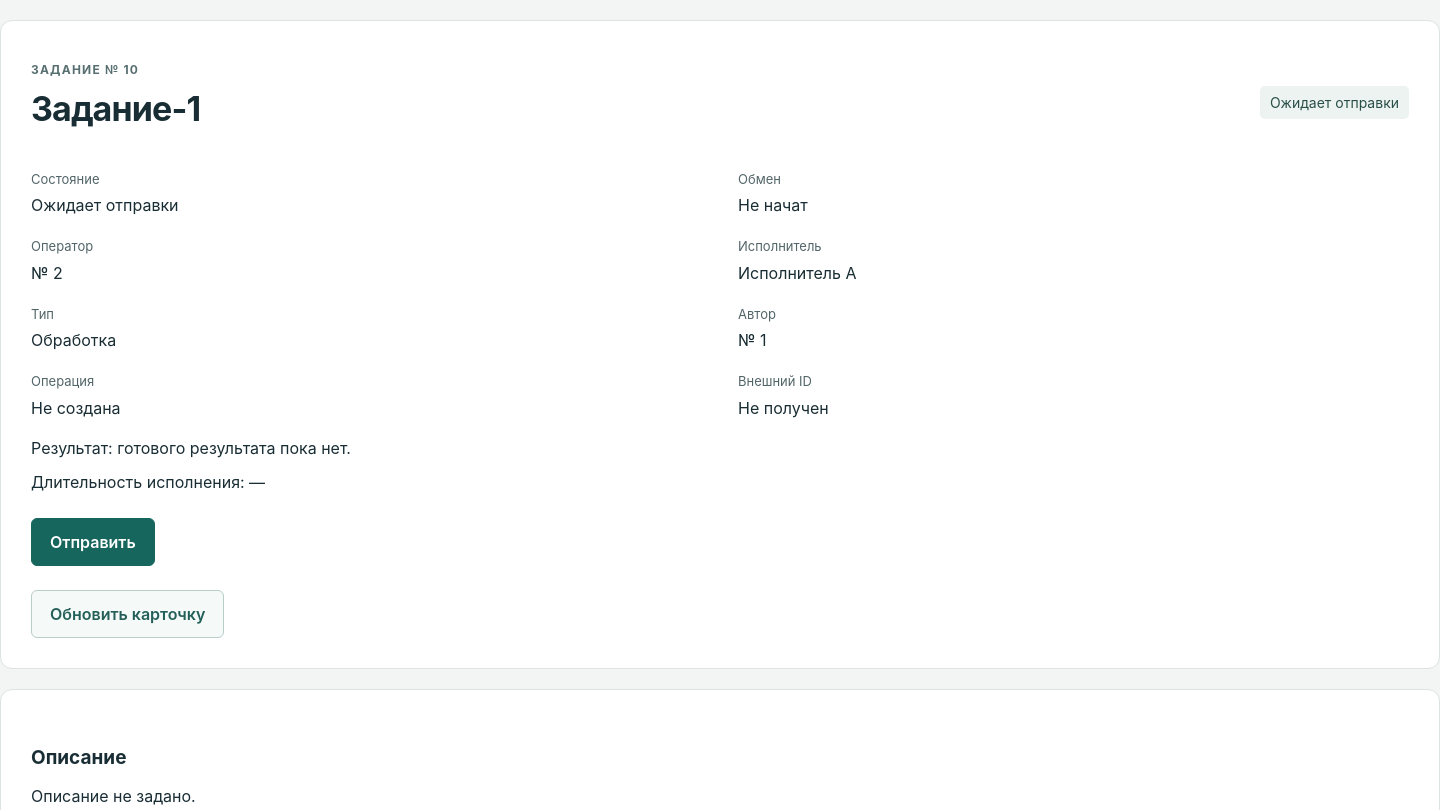
Test: Карточка и серверные действия › F-T004: не показывает подтверждённый переход до ответа
This screenshot has width=1440, height=810.
Click the button "Отправить" at (93, 542), box [31, 518, 155, 566]
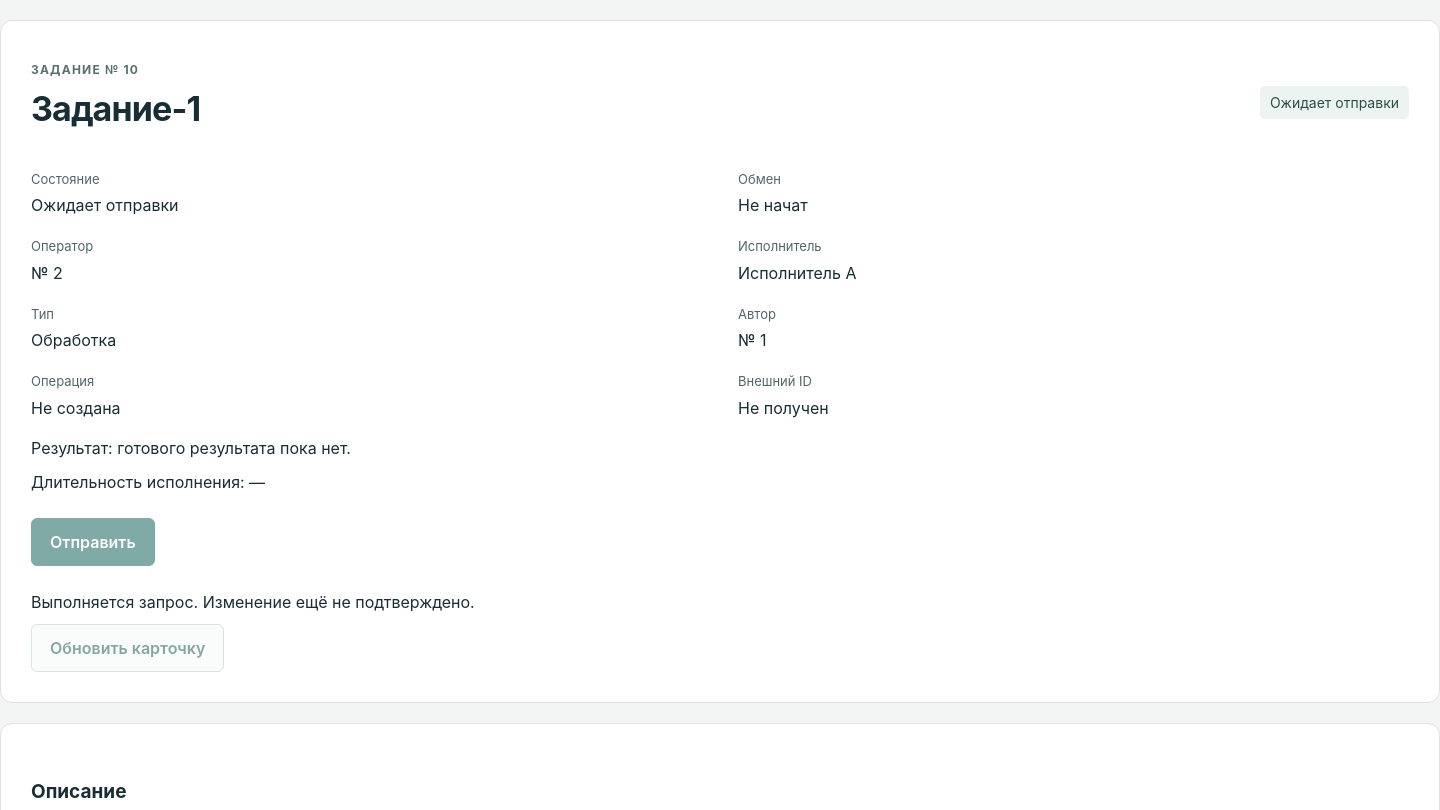
Expected: the message shows "ещё не подтверждено", [31, 592, 475, 612]
